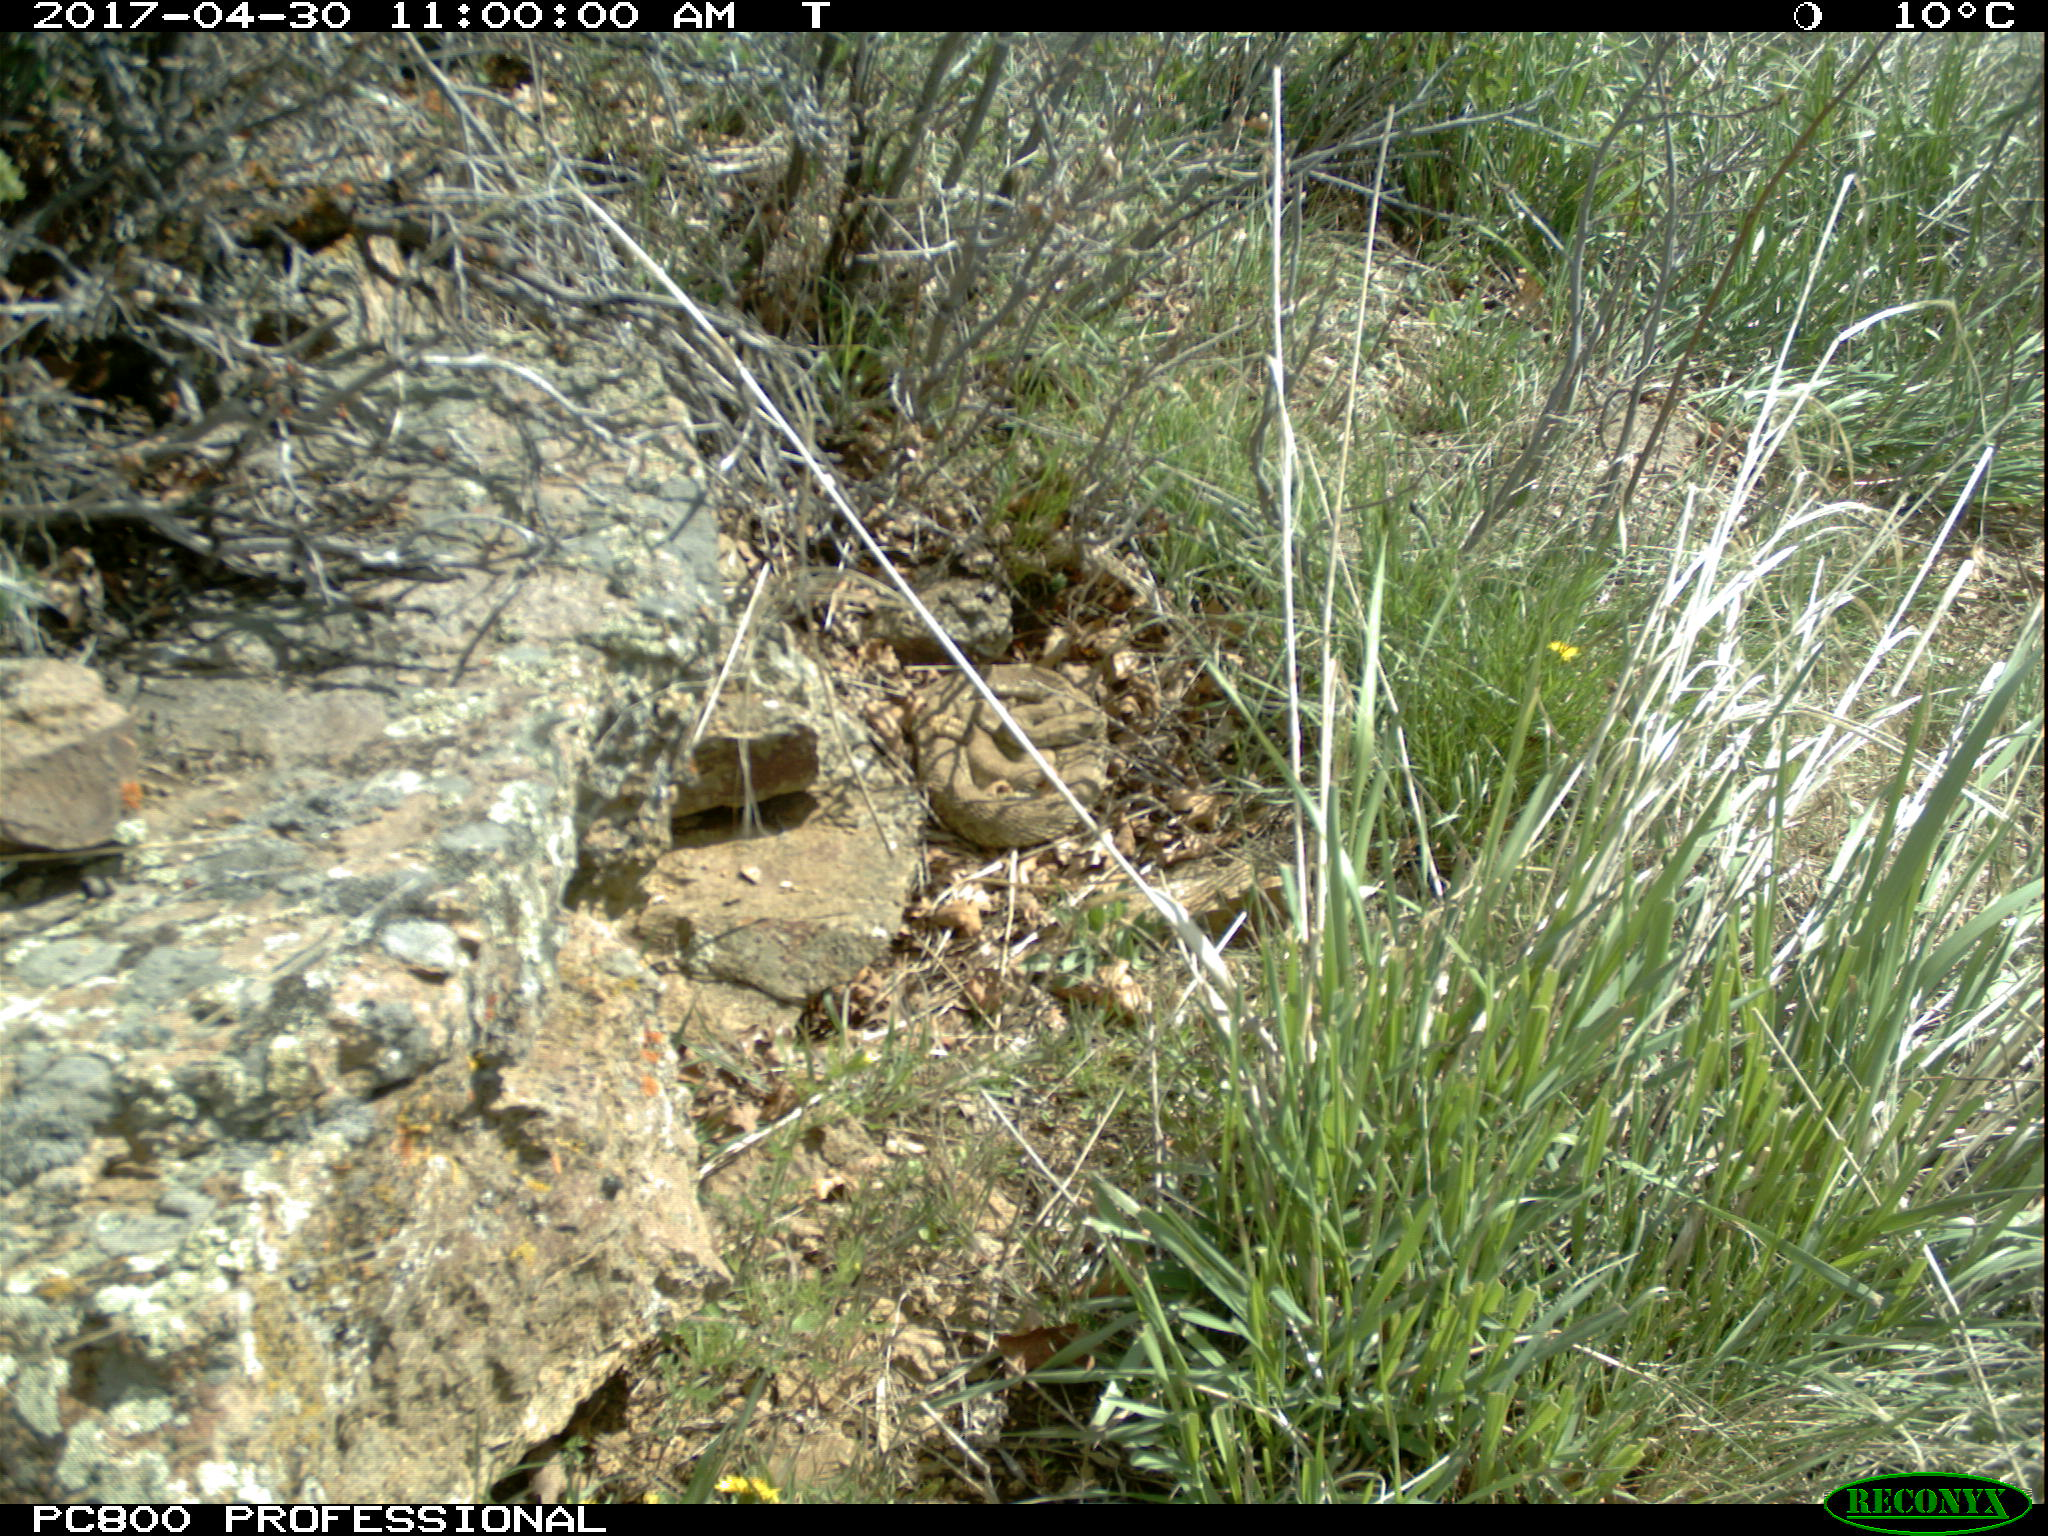snake: (916, 666, 1113, 847)
